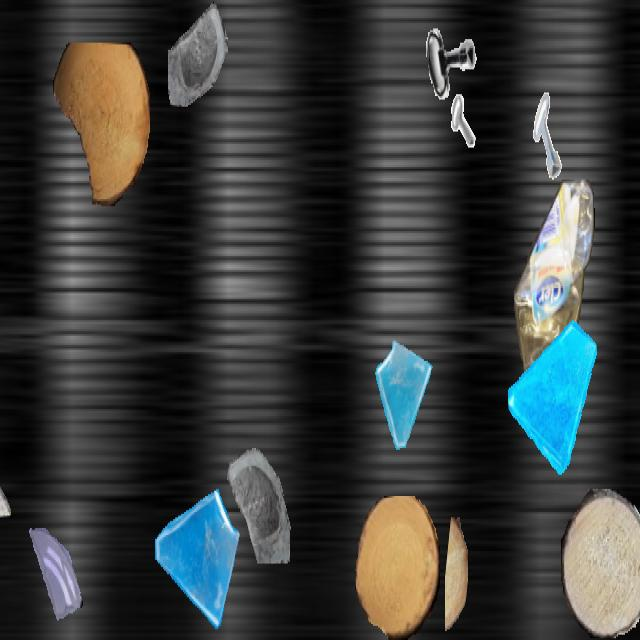glass: (151, 478, 241, 638), (508, 314, 598, 474), (217, 426, 293, 562), (372, 338, 436, 452), (168, 2, 228, 108), (26, 524, 84, 628)
metal: (419, 2, 481, 112), (525, 90, 575, 180), (427, 91, 475, 176)
plastic: (514, 180, 596, 439)
wood: (53, 43, 149, 206), (355, 496, 439, 638), (561, 489, 640, 638), (445, 518, 467, 638), (0, 455, 11, 519)
